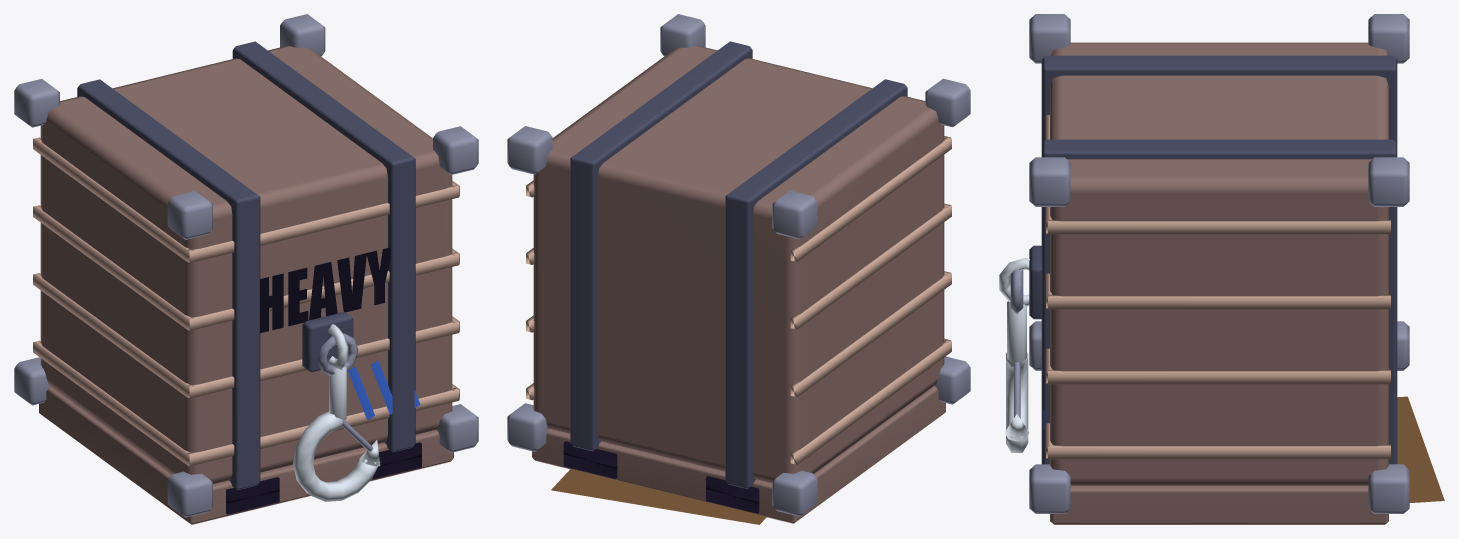
The model's file is cargo_crate.glb.
The picture shows the model from 3 angles, left to right: view 1: azimuth 30°, elevation 25°; view 2: azimuth 150°, elevation 25°; view 3: azimuth 270°, elevation 25°; orthographic projection. The views are drawn at different scales.
Parts seen in each view (by area): view 1: Crate; view 2: Crate; view 3: Crate.
Part boxes in pixels (bbox=[...]): Crate: bbox=[14, 14, 478, 524]; Crate: bbox=[507, 14, 970, 524]; Crate: bbox=[999, 14, 1444, 524].
Bounding box in the file's own units: 0.92 × 0.97 × 1.08.
